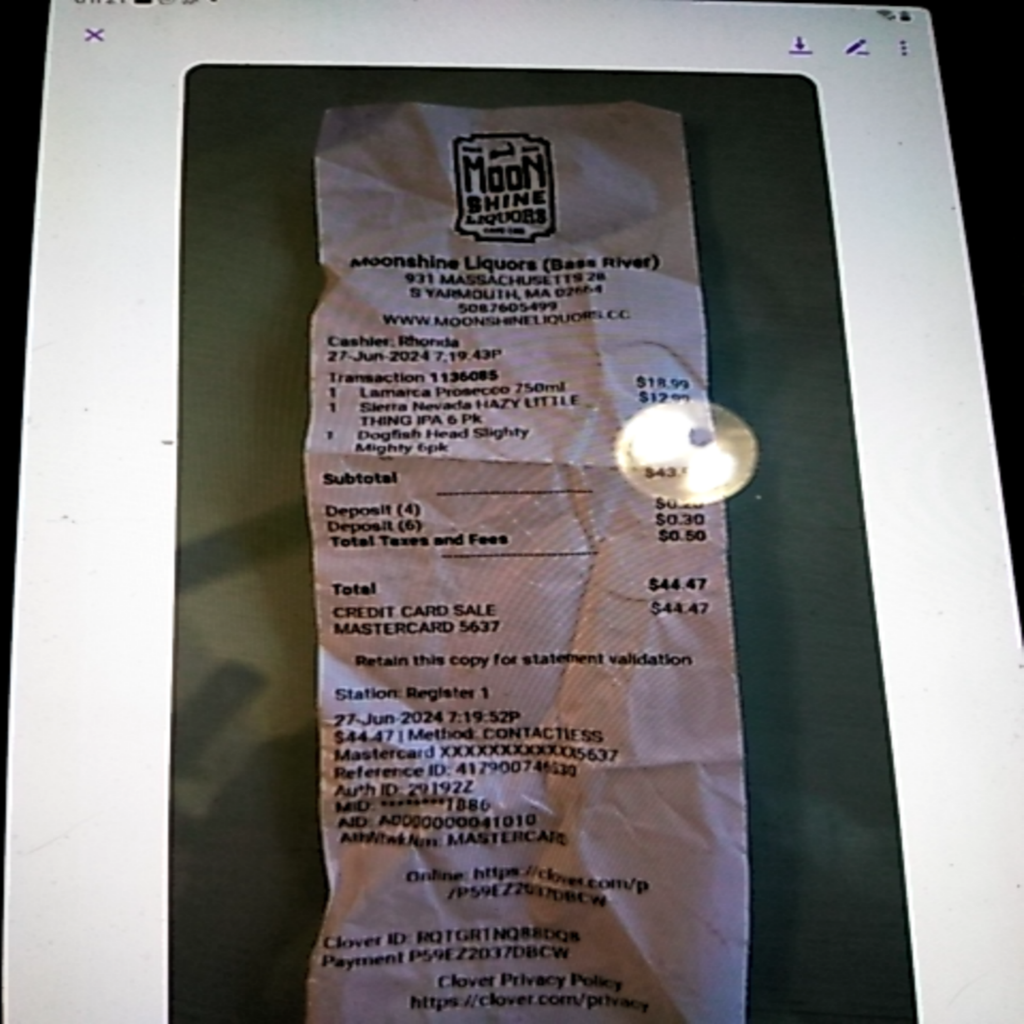recipt: (306, 97, 749, 1014)
